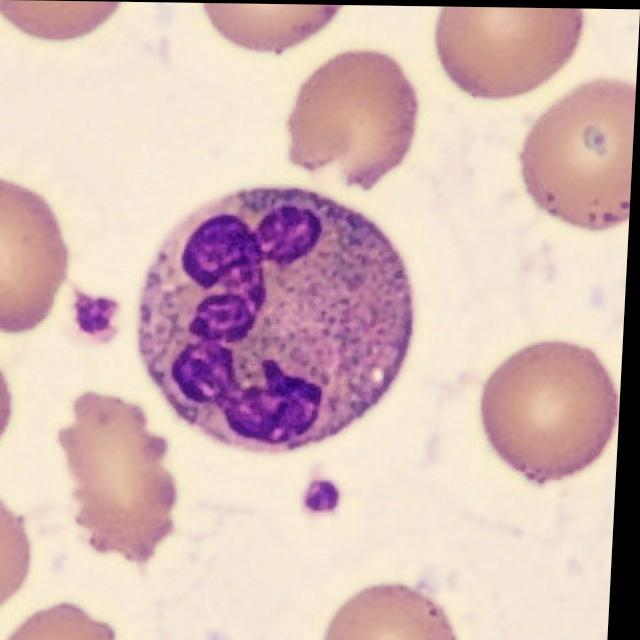Neutrofilo segmentado: (141, 183, 418, 450)
